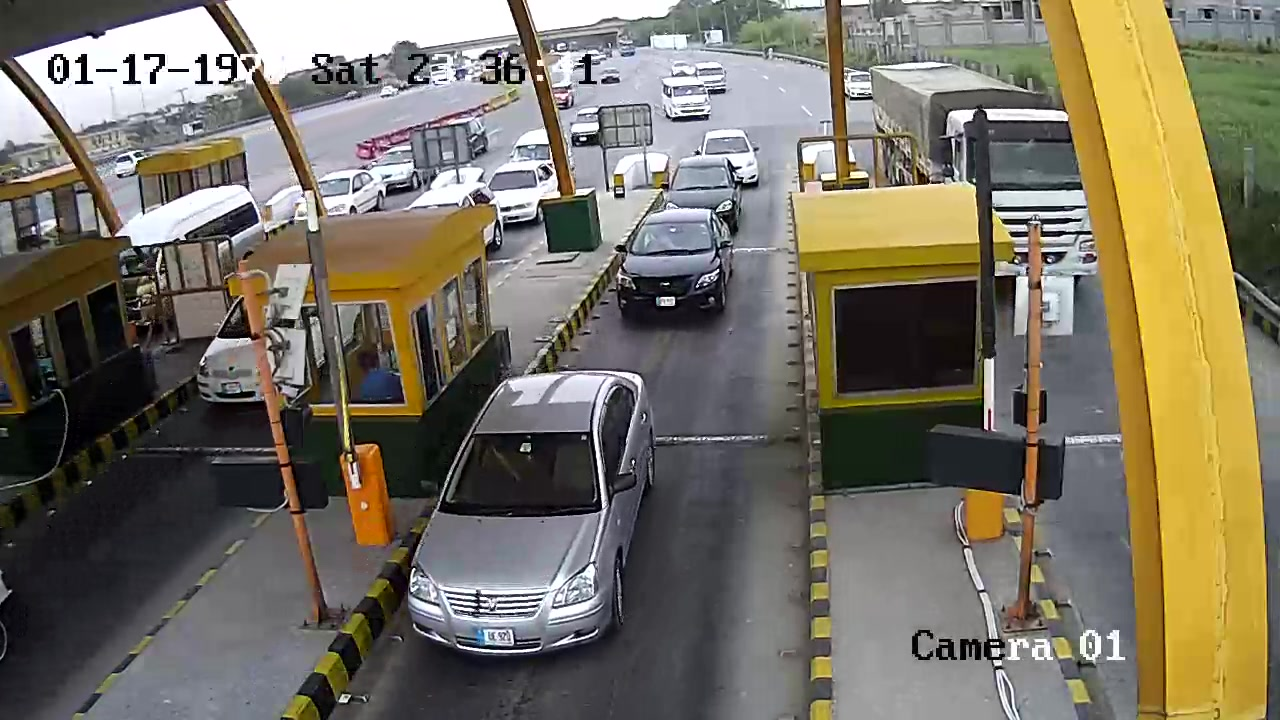F1: (404, 374, 667, 649), (604, 205, 742, 332)
